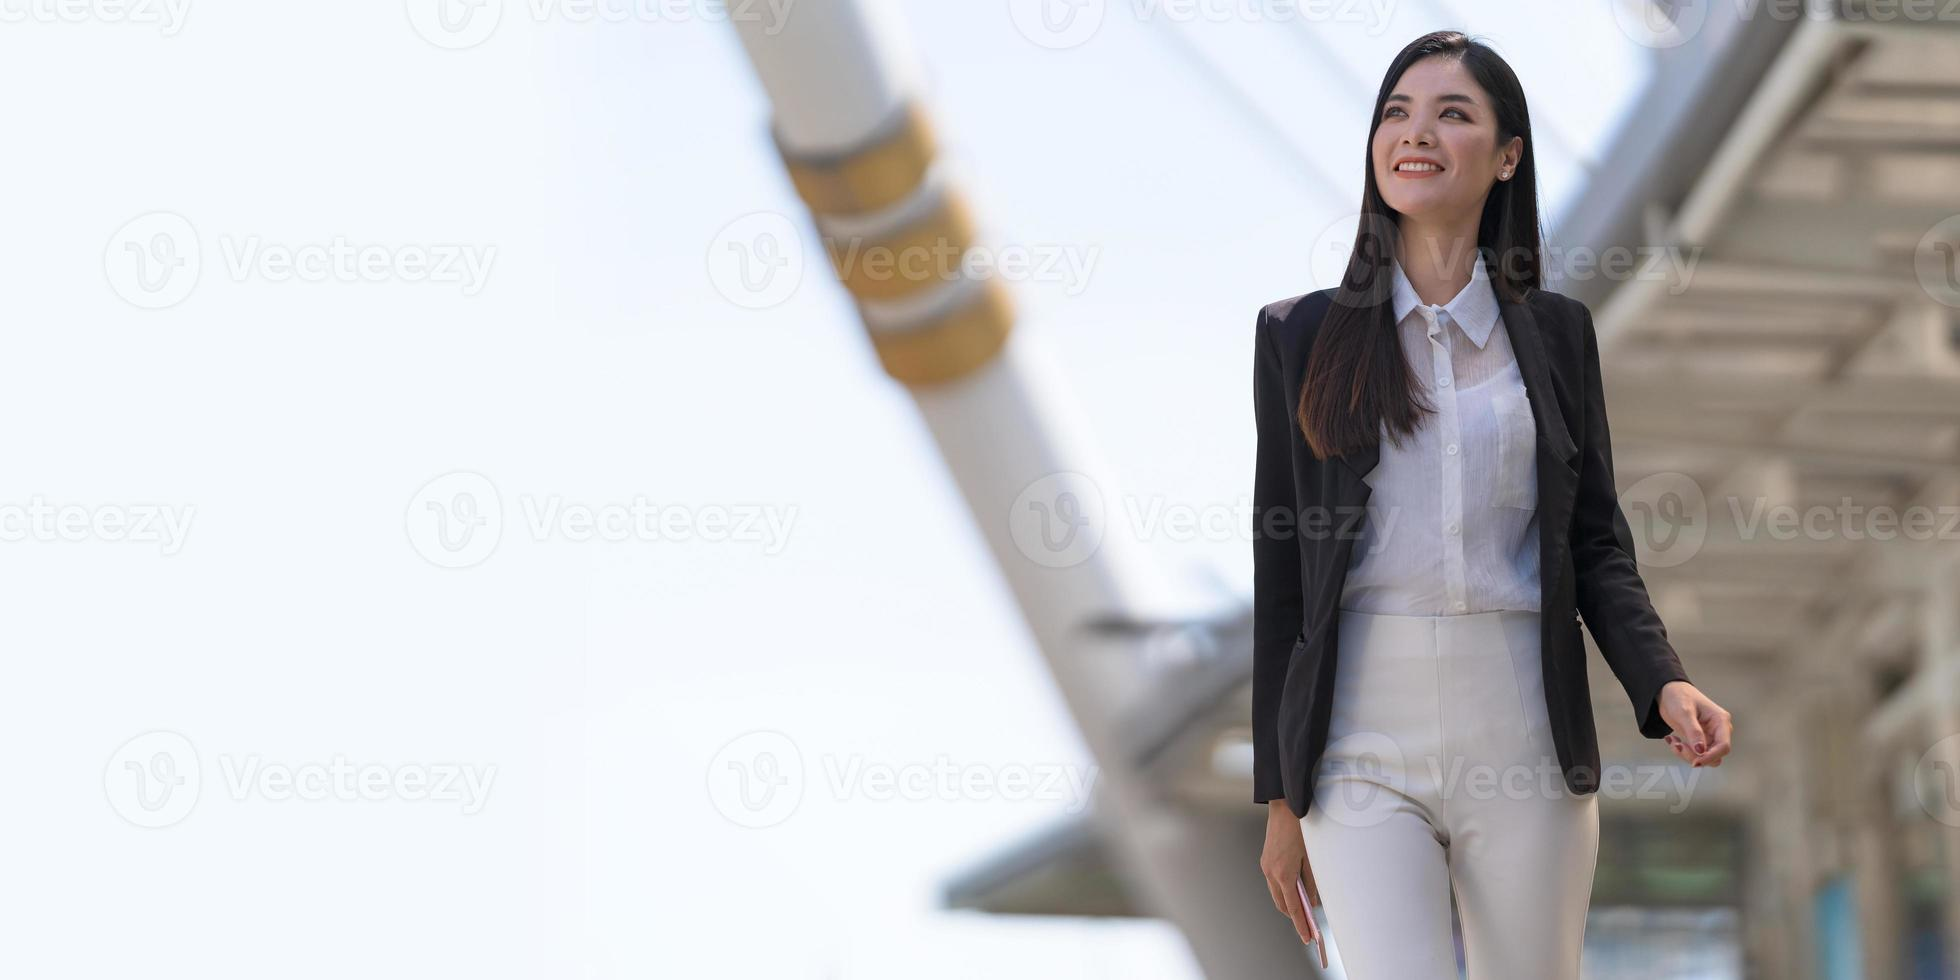face: (1356, 23, 1535, 235)
